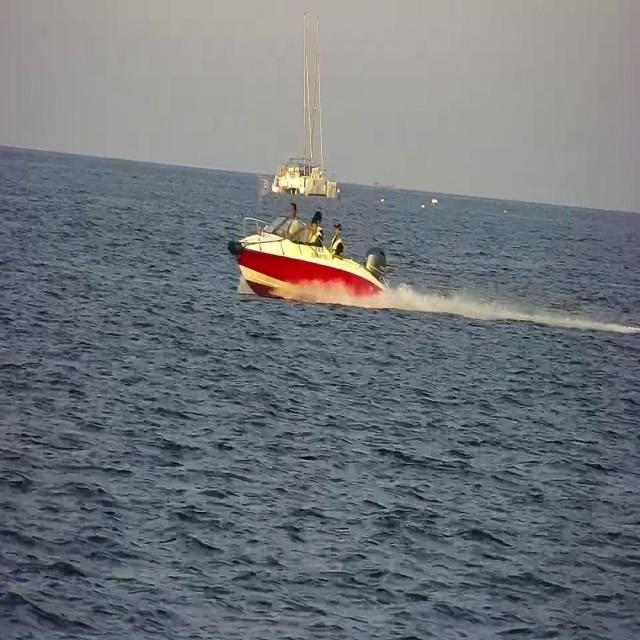CIV_Ship: (228, 201, 396, 312)
